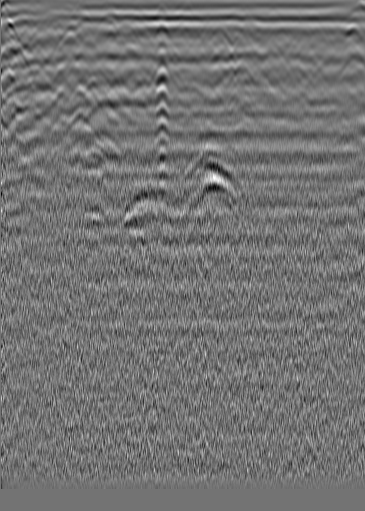가스: (80, 207, 108, 233)
상수: (339, 25, 359, 45)
오수: (28, 32, 48, 52)
우수: (208, 28, 228, 48)
